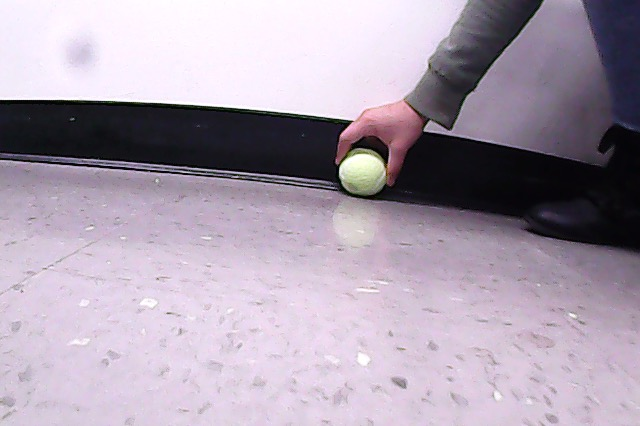ball: (339, 148, 387, 196)
